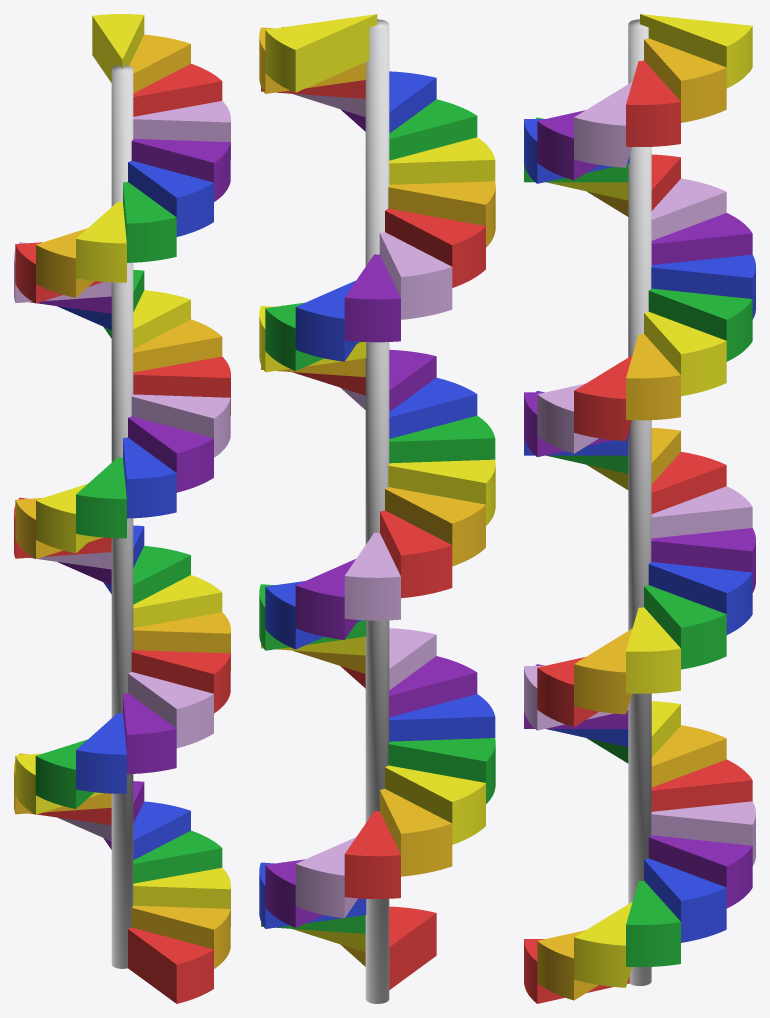
File: openscad_parametric-spiral-stairs.glb
The picture shows the model from 3 angles, left to right: view 1: azimuth 30°, elevation 25°; view 2: azimuth 150°, elevation 25°; view 3: azimuth 270°, elevation 25°; orthographic projection. The views are drawn at different scales.
Visible parts, largest first — view 1: object; view 2: object; view 3: object.
Part boxes in pixels (left/top/right/bottom): object: left=14, top=14, right=230, bottom=1003; object: left=259, top=14, right=495, bottom=1003; object: left=524, top=14, right=755, bottom=1003.
Size of the model in its own units: 200 by 920 by 200.
